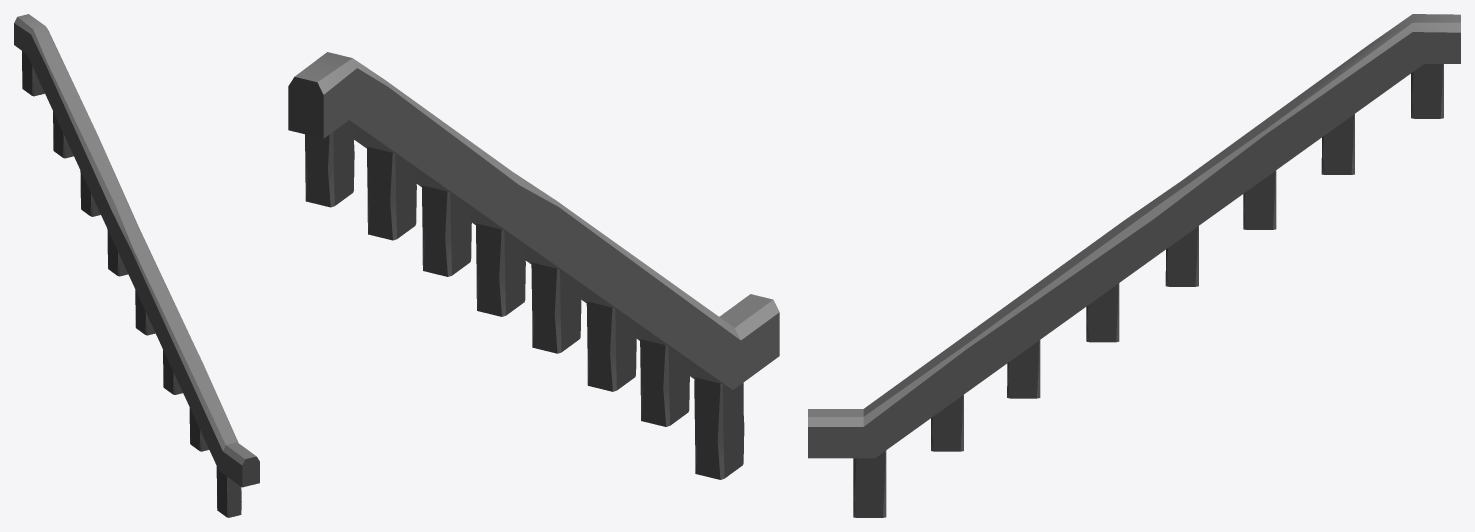
The model's file is 20C_stairs_handrail.fbx.
3 views of the same model, side by side, from view 1: azimuth 30°, elevation 25°; view 2: azimuth 150°, elevation 25°; view 3: azimuth 270°, elevation 25° (orthographic). The views are drawn at different scales.
Parts seen in each view (by area): view 1: 20C_stairs_handrail; view 2: 20C_stairs_handrail; view 3: 20C_stairs_handrail.
Boxes of the visible parts, x1,y1,x2,y2 form: 20C_stairs_handrail: (14,14,259,517); 20C_stairs_handrail: (288,52,779,479); 20C_stairs_handrail: (808,14,1460,517).
Size of the model in its own units: 1.34 by 25.09 by 30.
